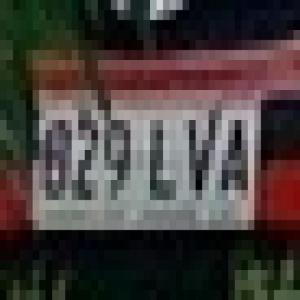Plate: (27, 83, 262, 242)
